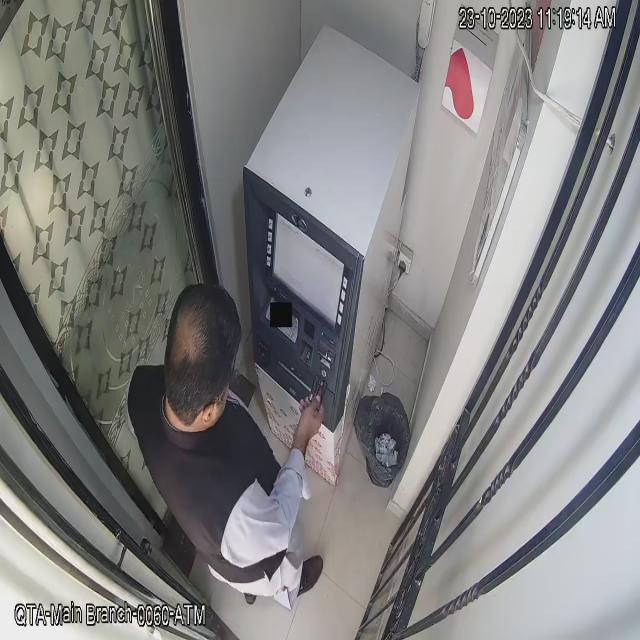atm-card: (306, 365, 330, 416)
